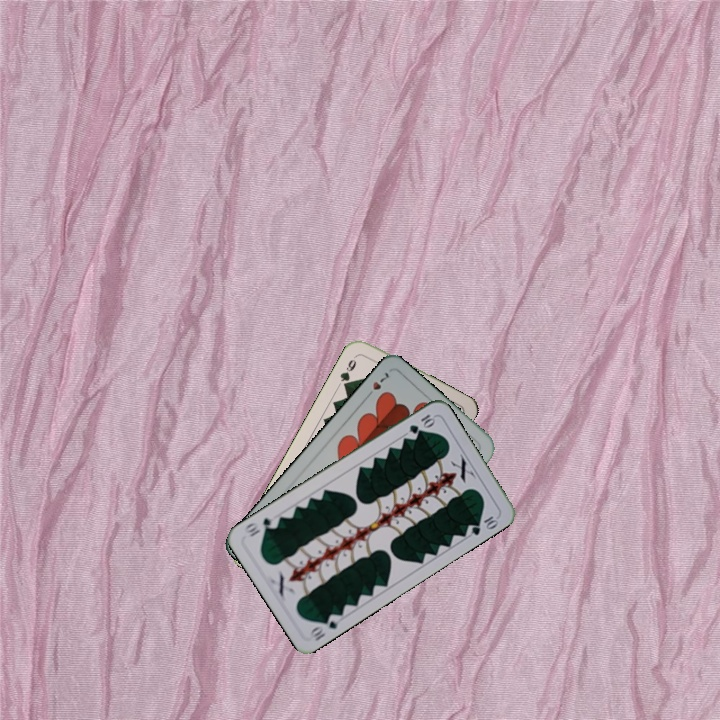G10: (305, 609, 344, 643), (405, 410, 438, 436)
G9: (336, 351, 360, 391)
H7: (361, 368, 393, 401)
